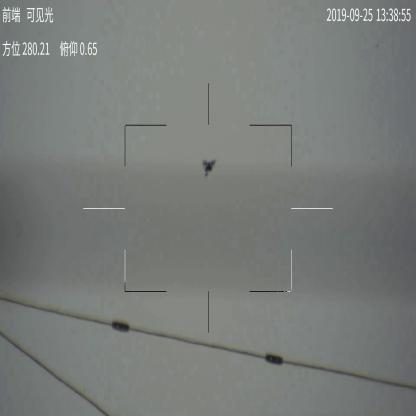uav: (201, 156, 216, 176)
